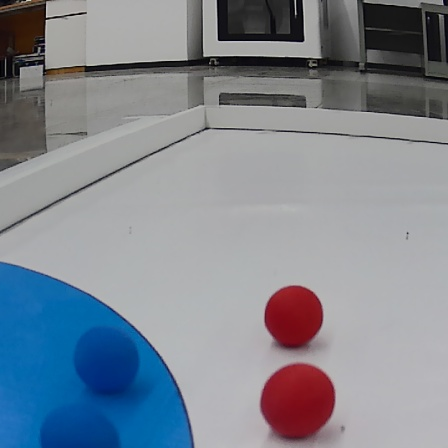blue: (71, 324, 143, 390), (42, 405, 122, 448)
blue_base: (1, 254, 193, 448)
red: (260, 363, 337, 439), (265, 285, 323, 349)
